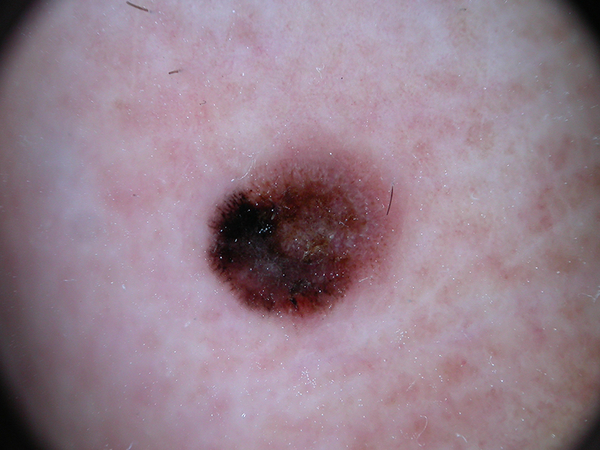Detected Lesion: (198, 152, 413, 323)
